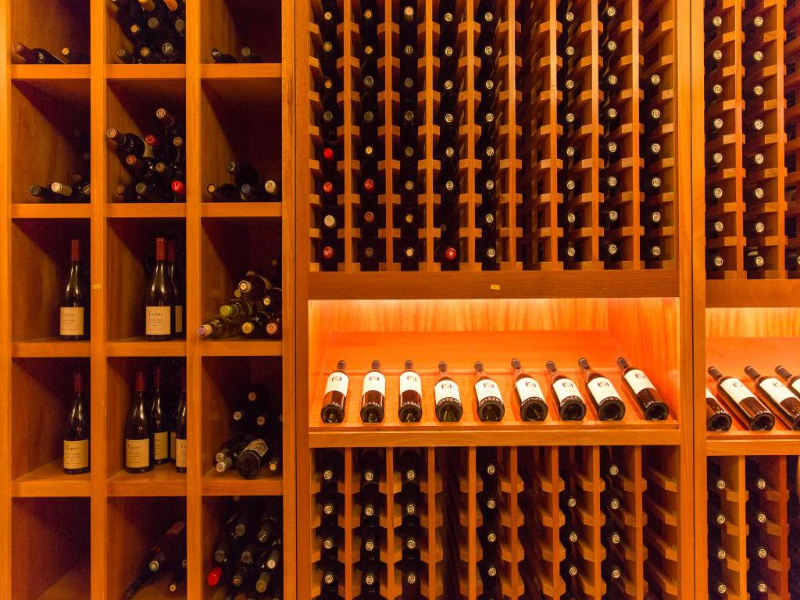wine: (9, 3, 284, 595), (309, 1, 678, 278), (309, 444, 686, 599), (318, 347, 677, 425), (704, 4, 800, 280), (702, 448, 800, 598), (704, 352, 800, 430)
